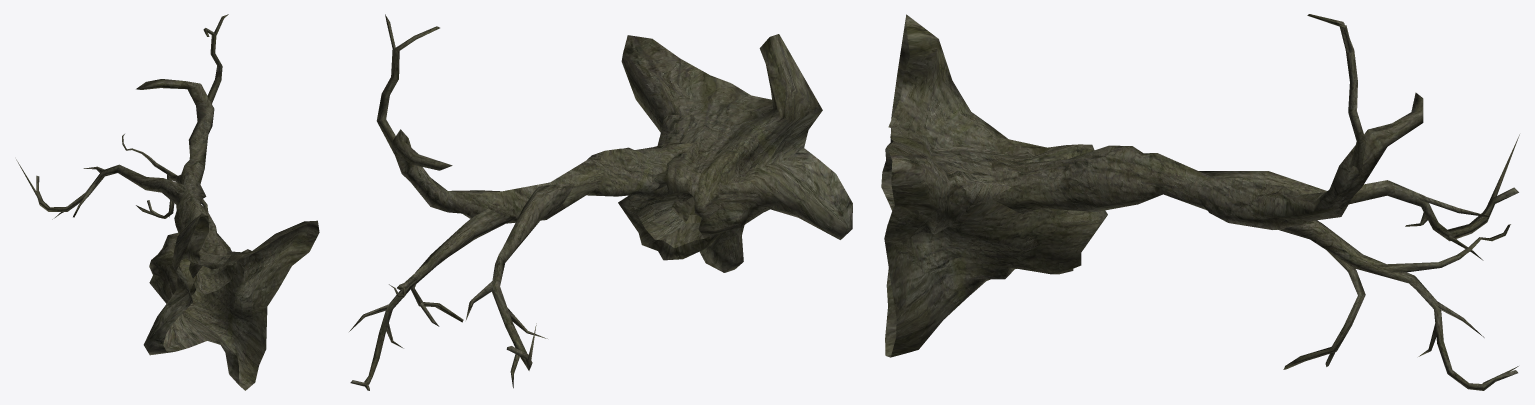
File: TI_Old_Tree_07_LOD_01.fbx
The picture shows the model from 3 angles, left to right: view 1: azimuth 30°, elevation 25°; view 2: azimuth 150°, elevation 25°; view 3: azimuth 270°, elevation 25°; orthographic projection. The views are drawn at different scales.
Visible parts, largest first — view 1: TI_Old_Tree_07_LOD_01; view 2: TI_Old_Tree_07_LOD_01; view 3: TI_Old_Tree_07_LOD_01.
Part boxes in pixels (x1,y1,x2,y2): TI_Old_Tree_07_LOD_01: [16, 14, 319, 390]; TI_Old_Tree_07_LOD_01: [349, 14, 852, 390]; TI_Old_Tree_07_LOD_01: [881, 14, 1519, 390].
Size of the model in its own units: 4.32 by 4.99 by 6.75.
